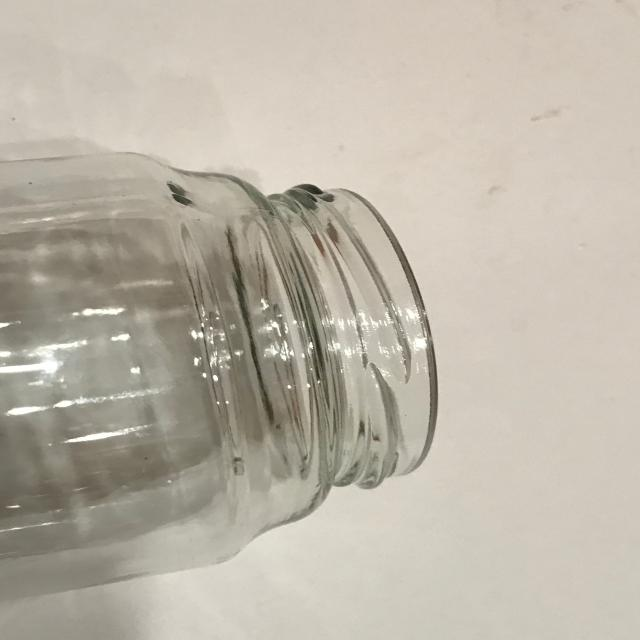glass: (0, 150, 439, 602)
